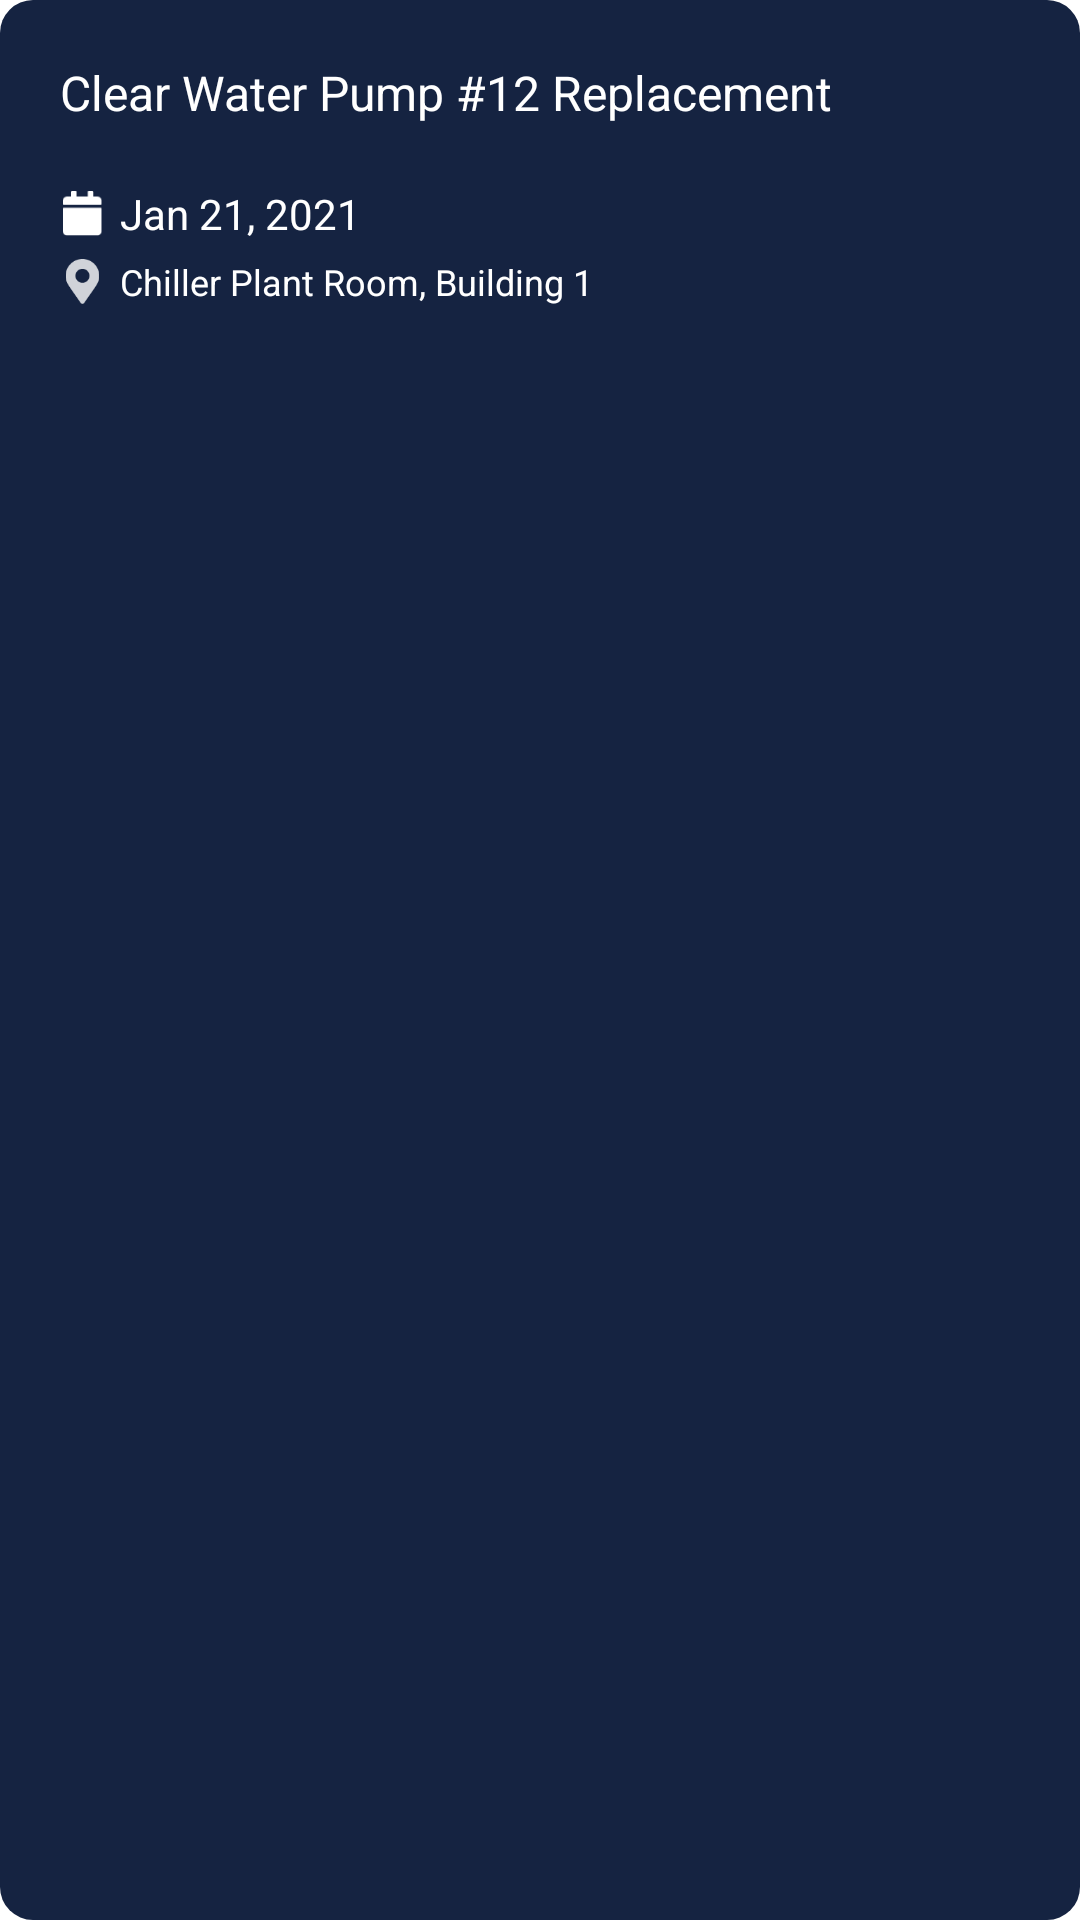

Icons on this 1080w x 1920h Android screen, each with the point to tap as point (x, y):
calender: point (82, 213)
marker: point (82, 281)
